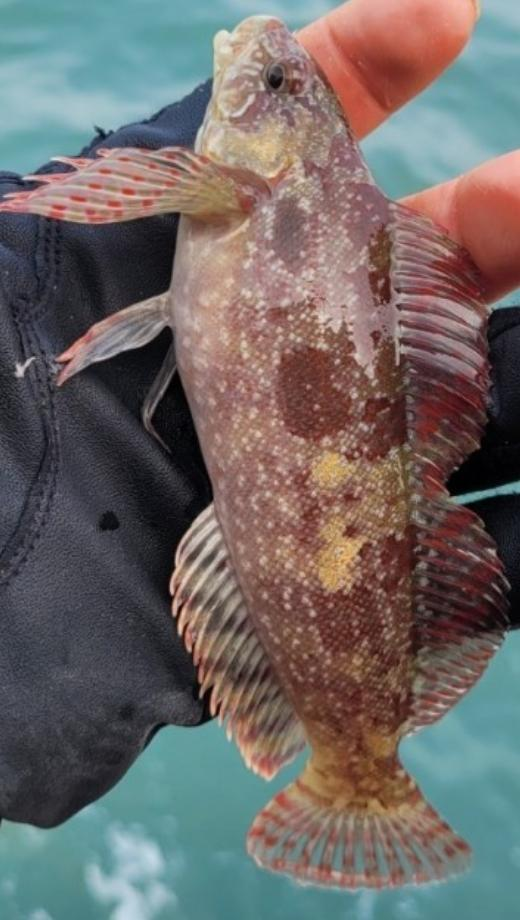fish: (3, 17, 506, 887)
